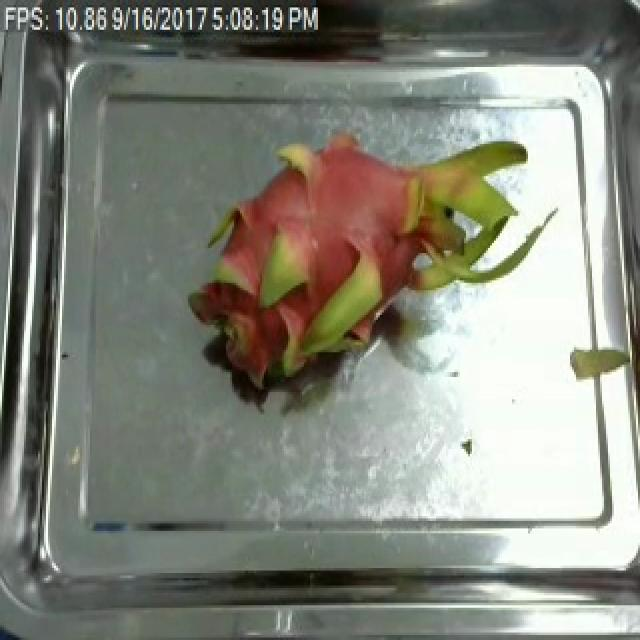fruit: (174, 99, 566, 447)
